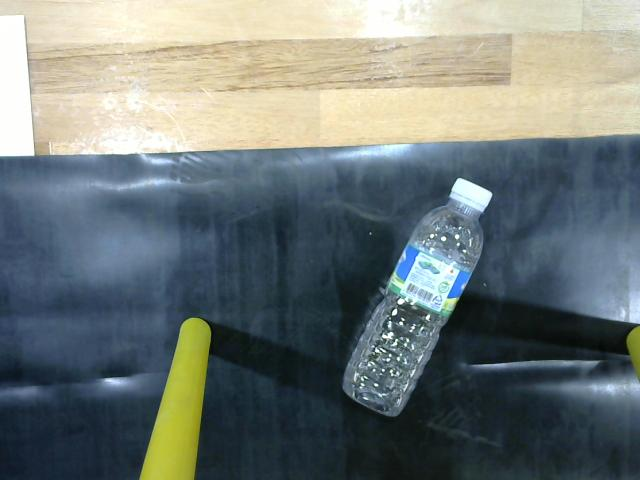bottle: (328, 169, 514, 429)
